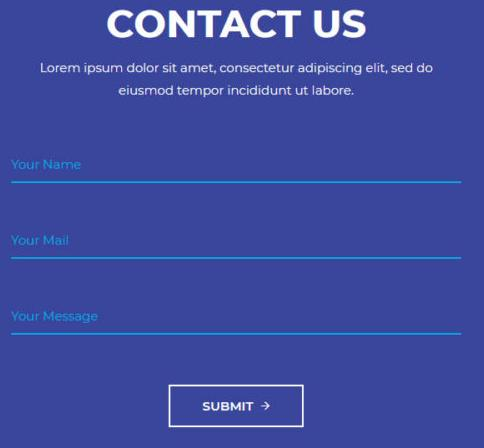button: (165, 382, 308, 430)
field_line: (8, 146, 468, 187), (8, 304, 465, 339), (8, 230, 464, 261)
